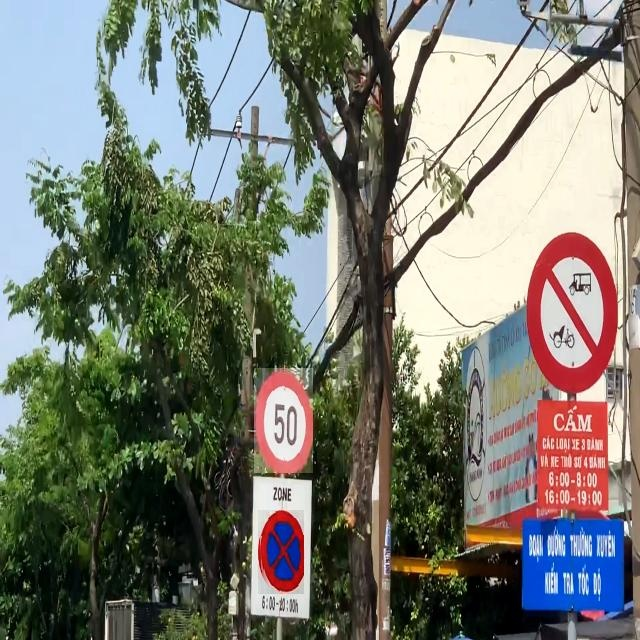bien_cam: (254, 368, 313, 473), (258, 510, 304, 594)
